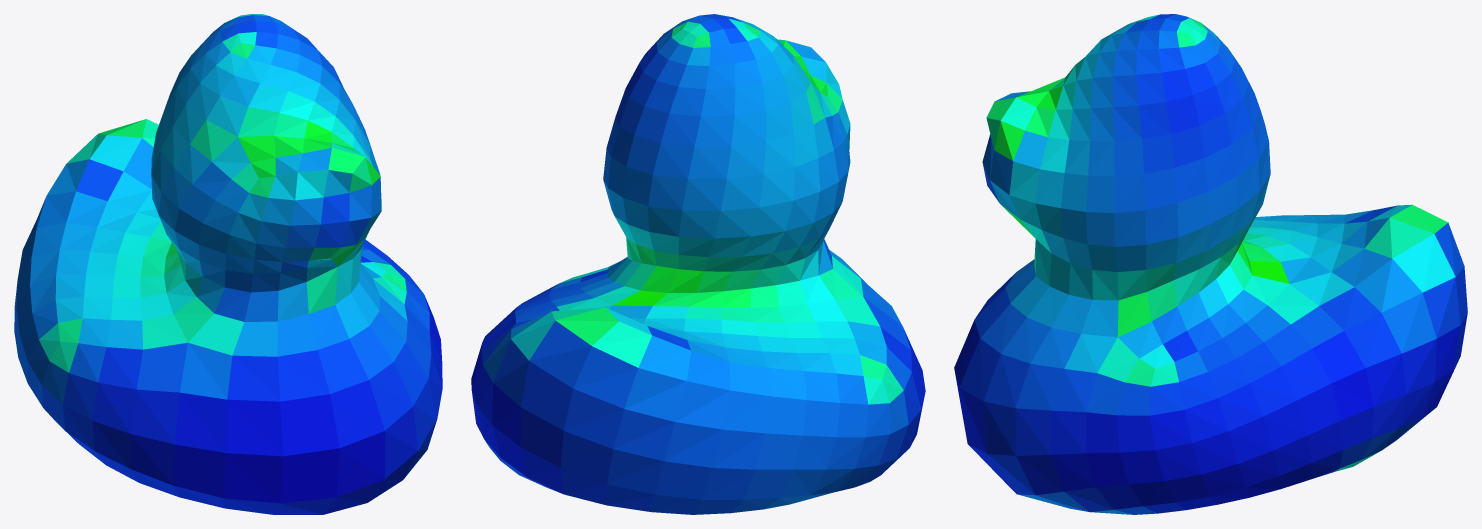
The model's file is duck_quad0_opt_quality.obj.
3 renders of one model, left to right at view 1: azimuth 30°, elevation 25°; view 2: azimuth 150°, elevation 25°; view 3: azimuth 270°, elevation 25°, orthographic. The views are drawn at different scales.
Bounding box in the file's own units: 69.14 × 77.82 × 80.95.
